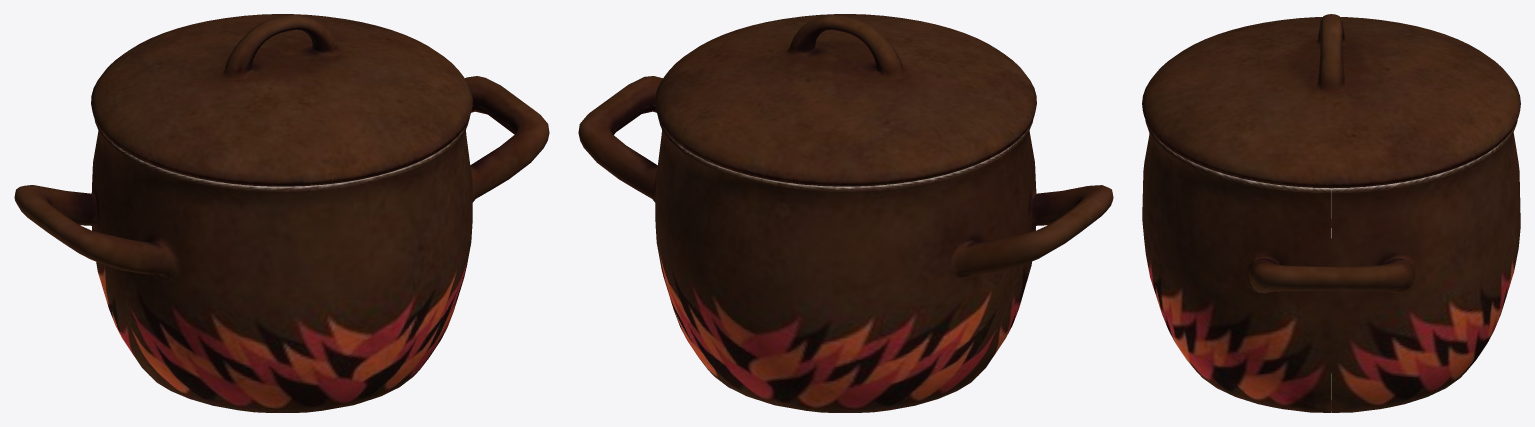
Rendered from pot_enamel_01.glb.
The picture shows the model from 3 angles, left to right: view 1: azimuth 30°, elevation 25°; view 2: azimuth 150°, elevation 25°; view 3: azimuth 270°, elevation 25°; orthographic projection.
Visible parts, largest first — view 1: pot_enamel_01_base, pot_enamel_01_lid; view 2: pot_enamel_01_base, pot_enamel_01_lid; view 3: pot_enamel_01_base, pot_enamel_01_lid.
Boxes of the visible parts, box(x1,y1,x2,y2) form: pot_enamel_01_base: box(14, 76, 549, 412); pot_enamel_01_lid: box(91, 14, 472, 186); pot_enamel_01_base: box(578, 76, 1113, 412); pot_enamel_01_lid: box(655, 14, 1036, 186); pot_enamel_01_base: box(1142, 120, 1520, 412); pot_enamel_01_lid: box(1142, 14, 1520, 188).
Bounding box in the file's own units: 0.2626 × 0.1783 × 0.1805.
1 material, 1 textured.
